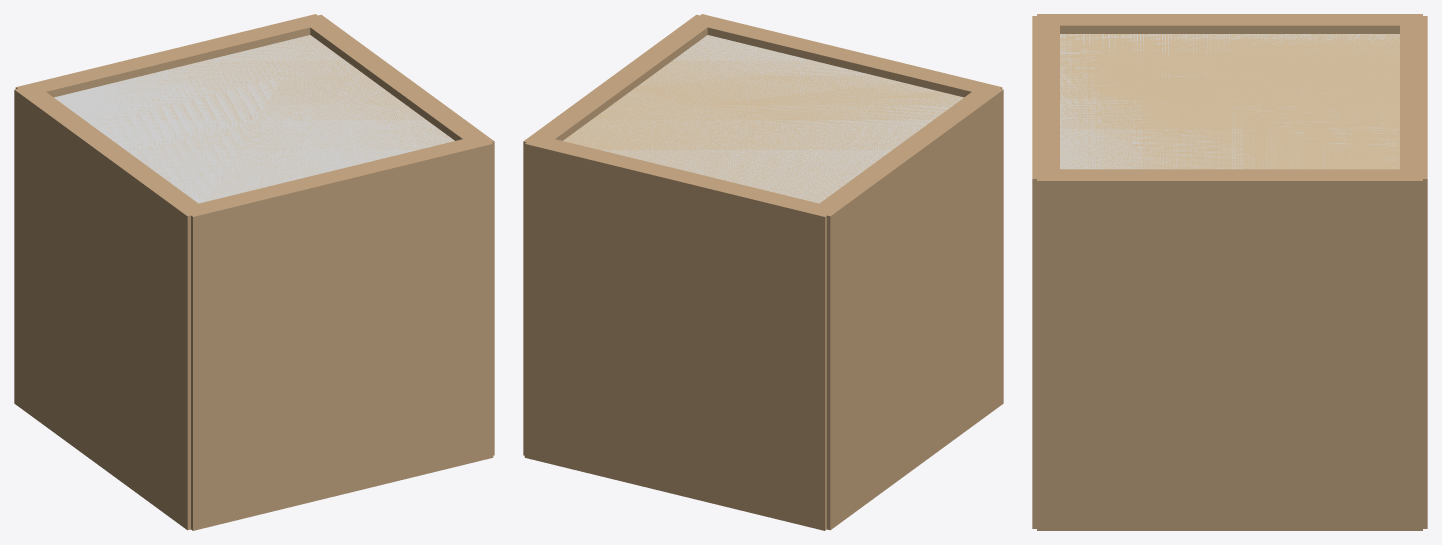
File: Crate.fbx
3 renders of one model, left to right at view 1: azimuth 30°, elevation 25°; view 2: azimuth 150°, elevation 25°; view 3: azimuth 270°, elevation 25°, orthographic. The views are drawn at different scales.
Visible parts, largest first — view 1: Crate_Mesh, COL_Crate; view 2: Crate_Mesh, COL_Crate; view 3: Crate_Mesh, COL_Crate.
Boxes of the visible parts, bbox=[...] form: Crate_Mesh: bbox=[14, 14, 494, 530]; COL_Crate: bbox=[54, 35, 454, 203]; Crate_Mesh: bbox=[523, 14, 1003, 530]; COL_Crate: bbox=[564, 35, 963, 203]; Crate_Mesh: bbox=[1032, 14, 1427, 530]; COL_Crate: bbox=[1060, 34, 1399, 169].
Bounding box in the file's own units: 0.86 × 0.84 × 0.86.
